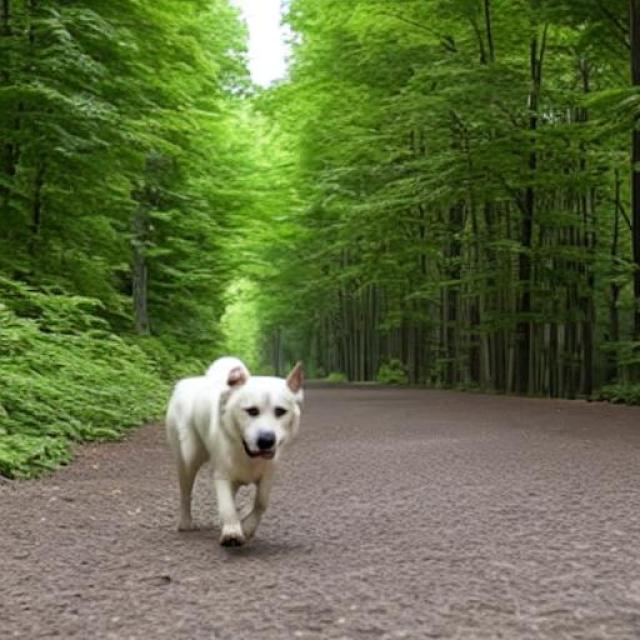Dog: (166, 356, 304, 548)
